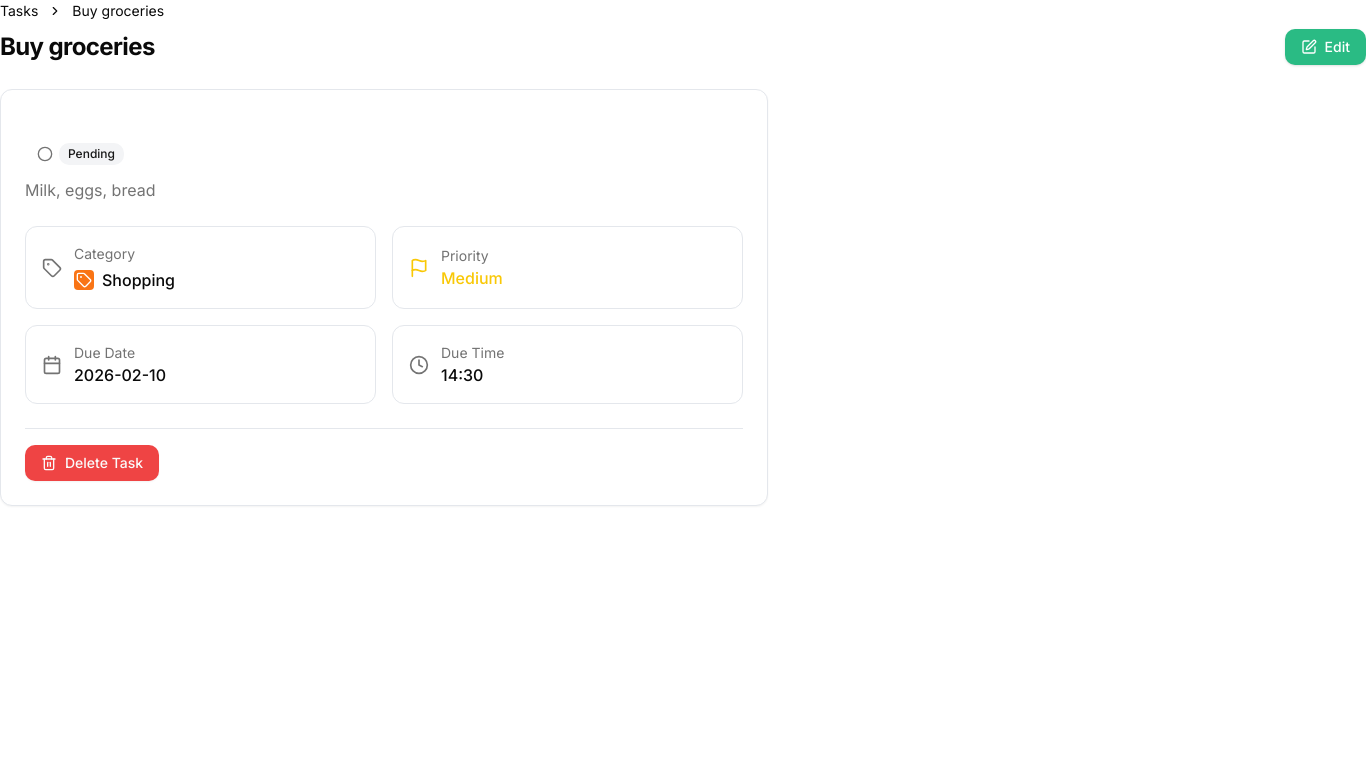
Scenario: TaskDetailContent › shows delete confirmation dialog
Click the button "Delete Task". click: click(92, 463)
box: [25,445,159,481]
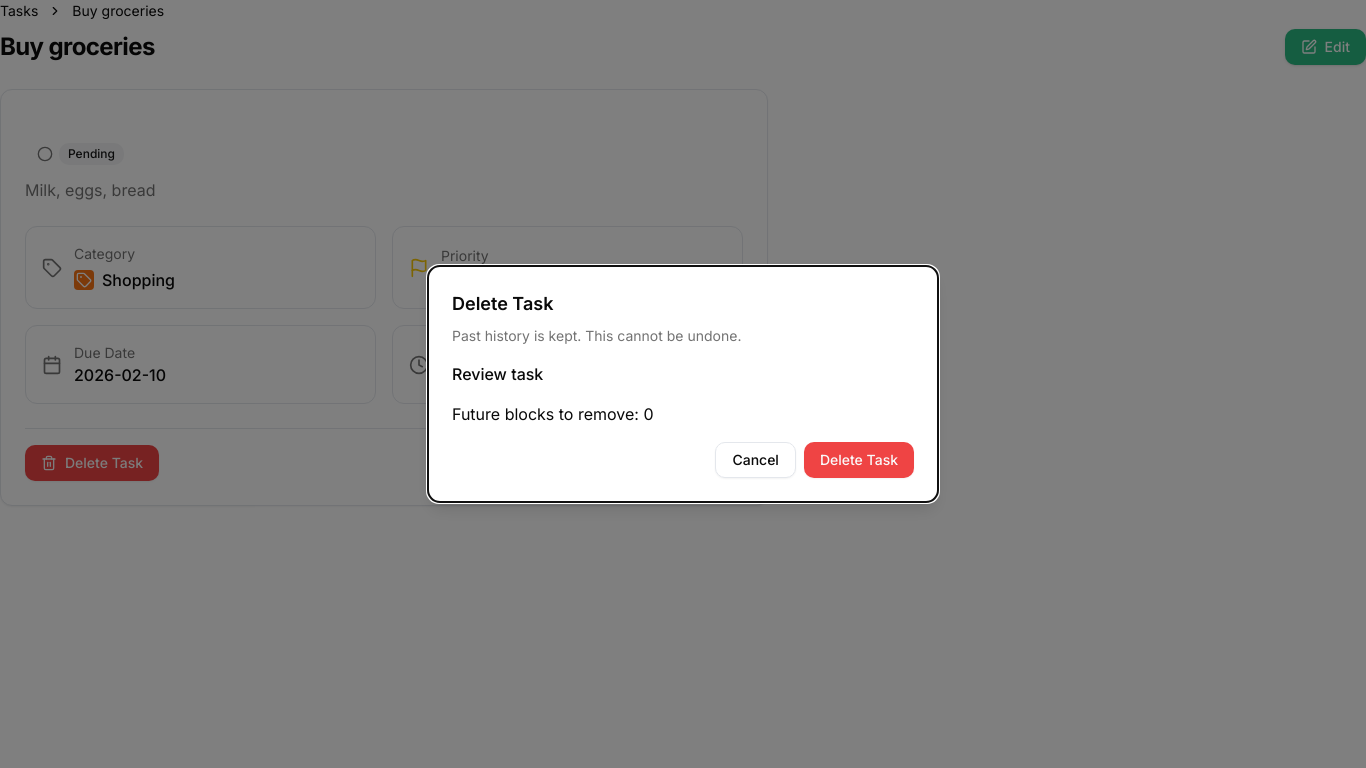
Expected: the text "Past history is kept. This cannot be undone." is shown, [452,327,741,344]
